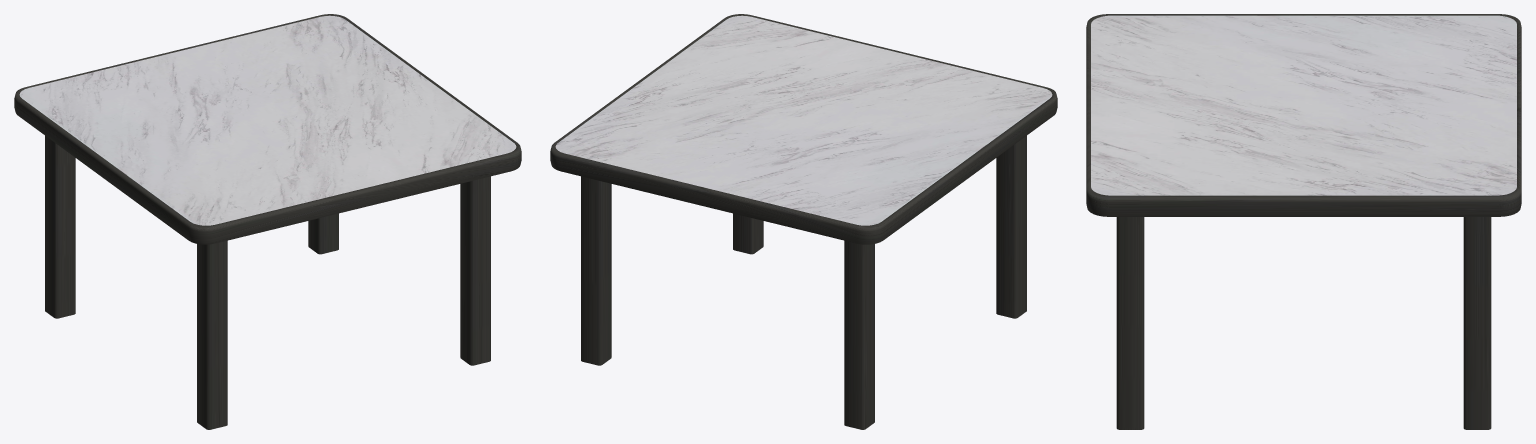
File: croquet_table 1.fbx
The picture shows the model from 3 angles, left to right: view 1: azimuth 30°, elevation 25°; view 2: azimuth 150°, elevation 25°; view 3: azimuth 270°, elevation 25°; orthographic projection. The views are drawn at different scales.
Parts seen in each view (by area): view 1: Cube, Cube.001; view 2: Cube, Cube.001; view 3: Cube, Cube.001.
Part boxes in pixels (left/top/right/bottom): Cube: left=14, top=14, right=521, bottom=244; Cube.001: left=45, top=135, right=490, bottom=429; Cube: left=550, top=14, right=1057, bottom=244; Cube.001: left=581, top=135, right=1026, bottom=429; Cube: left=1086, top=14, right=1521, bottom=216; Cube.001: left=1116, top=217, right=1491, bottom=429.
Size of the model in its own units: 2008 by 1250 by 2008.
